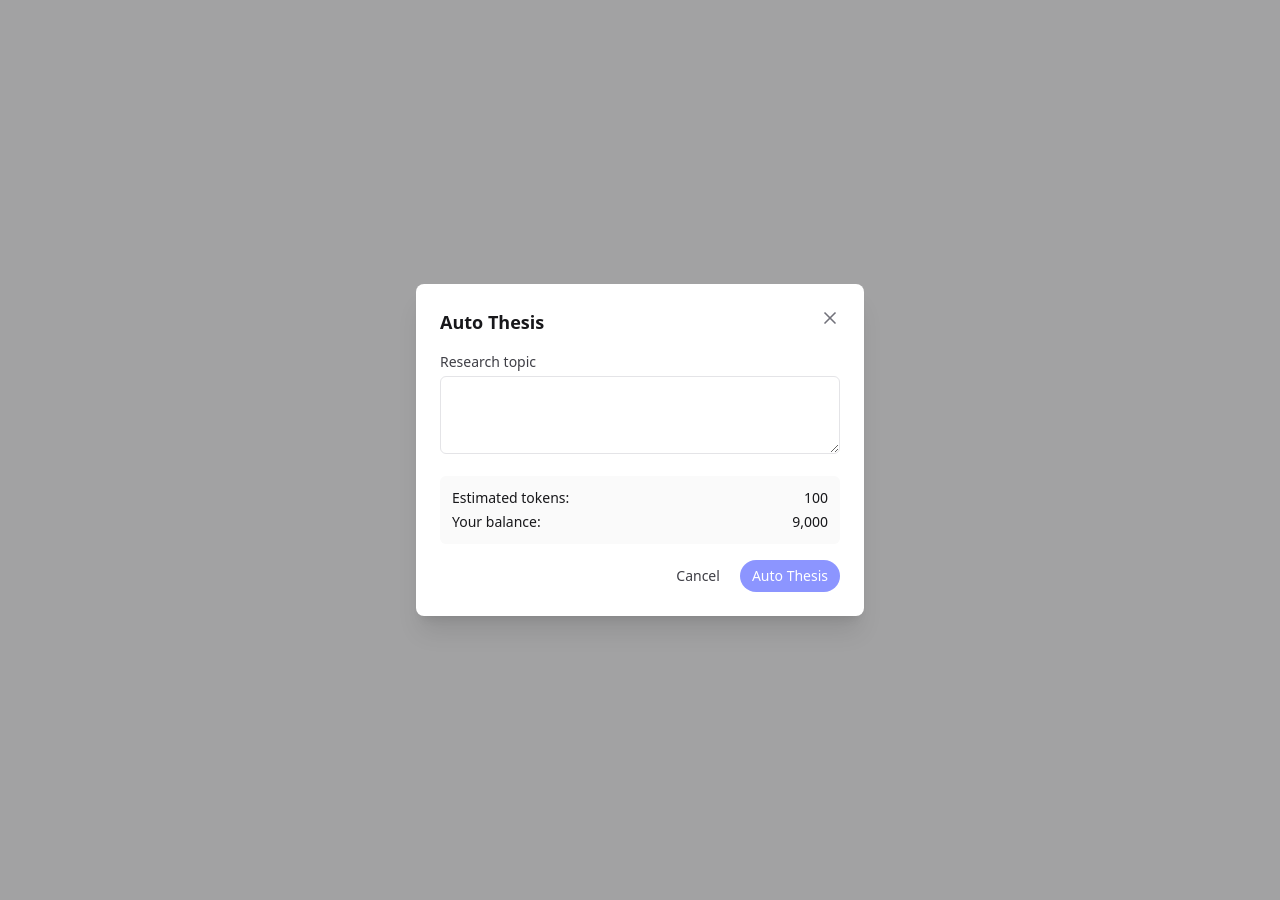
Test case: AutoThesisModal › reading the topic out of the uploads › a failed read does not block the student from typing one
Expected: the text "Research topic" is shown, [440,352,536,371]
In the text box: [640, 415] box [440,376,840,454], type "typed by hand"
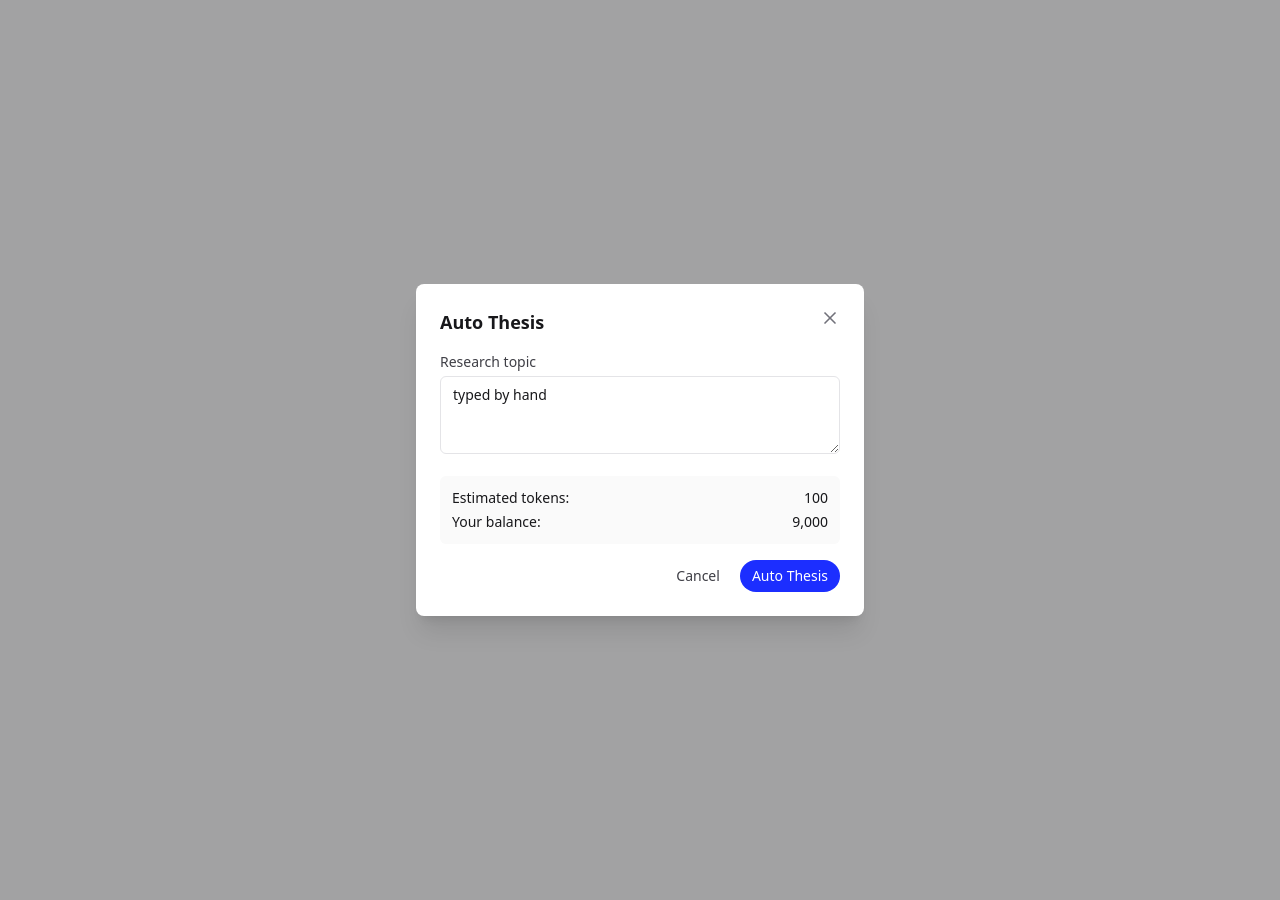
Expected: the button "Auto Thesis" is enabled, [740,560,840,592]
